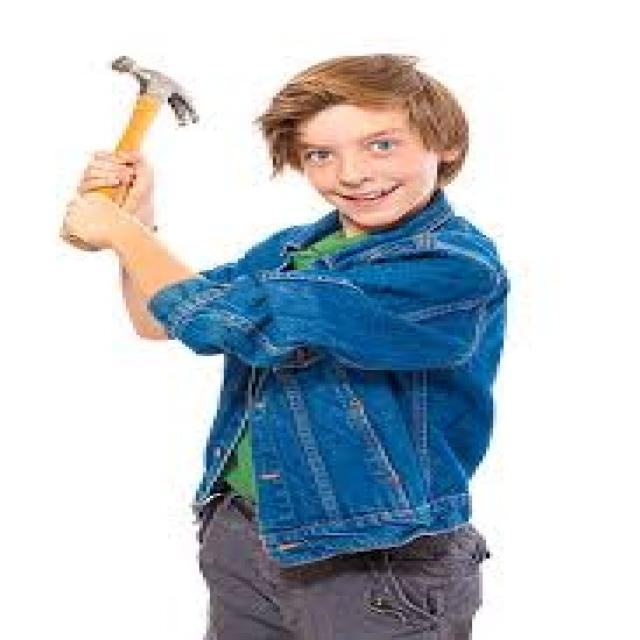hammer: (59, 24, 200, 210)
